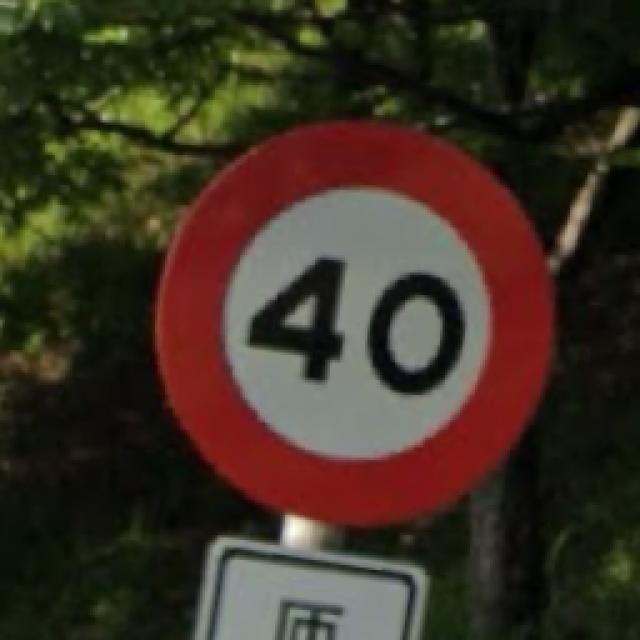Speed Limit -40-: (158, 125, 550, 522)
